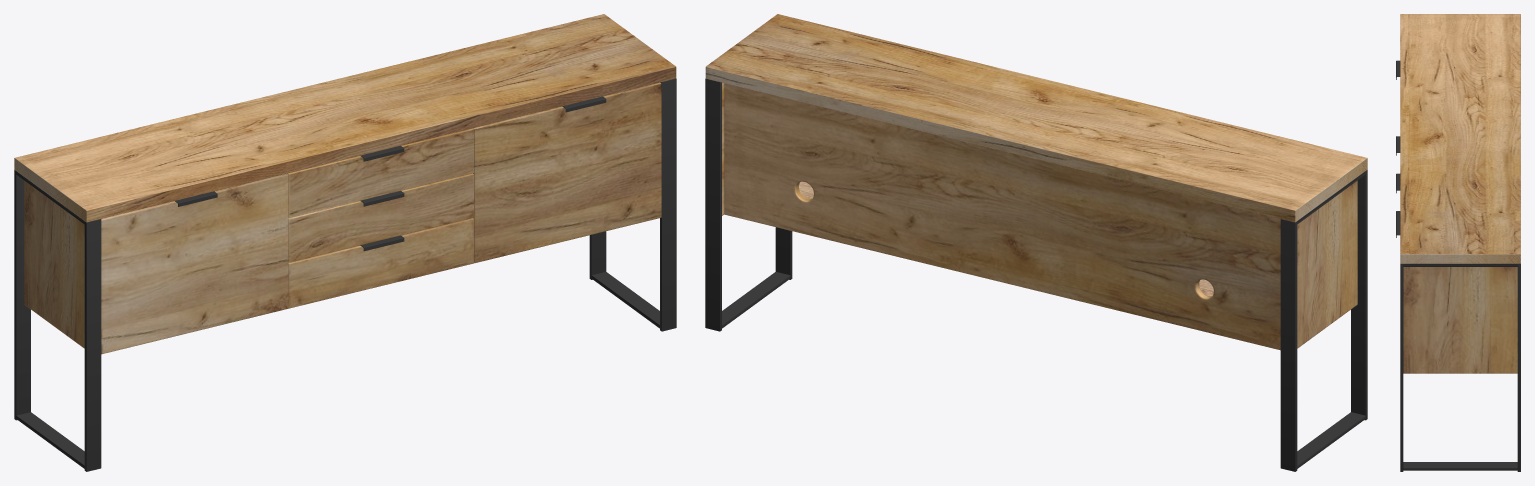
File: abo_B07TR659G8.glb
3 renders of one model, left to right at view 1: azimuth 30°, elevation 25°; view 2: azimuth 150°, elevation 25°; view 3: azimuth 270°, elevation 25°, orthographic. The views are drawn at different scales.
Visible parts, largest first — view 1: B07TR659G8; view 2: B07TR659G8; view 3: B07TR659G8.
Boxes of the visible parts, <box> form: B07TR659G8: <box>14,14,676,471</box>; B07TR659G8: <box>705,14,1367,471</box>; B07TR659G8: <box>1396,14,1520,471</box>.
Size of the model in its own units: 1.8 by 0.762 by 0.395.
1 material, 1 textured.
